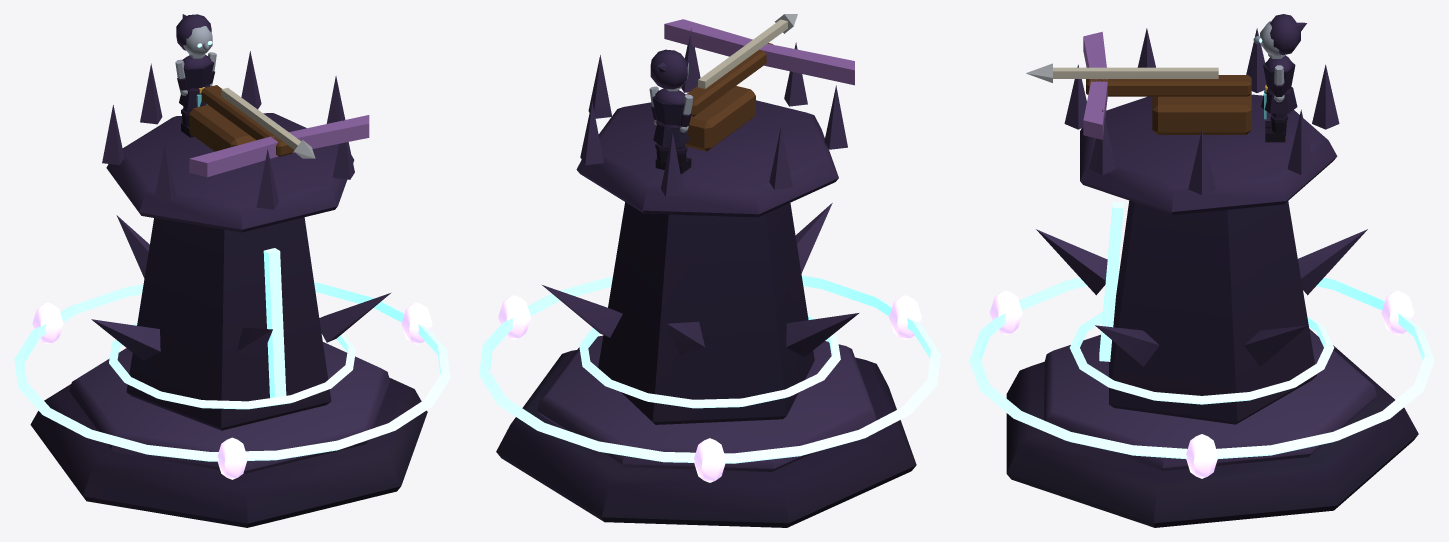
The model's file is ombres_6.glb.
3 views of the same model, side by side, from view 1: azimuth 30°, elevation 25°; view 2: azimuth 150°, elevation 25°; view 3: azimuth 270°, elevation 25° (orthographic). The views are drawn at different scales.
Parts seen in each view (by area): view 1: ombres_6_peint, Tourelle_peint, Rune, ombres_6_lueur, AnneauFlottant_lueur, Buste_peint, Crane_peint; view 2: ombres_6_peint, Tourelle_peint, Rune, ombres_6_lueur, AnneauFlottant_lueur, Buste_peint, Crane_peint; view 3: ombres_6_peint, Tourelle_peint, Rune, ombres_6_lueur, AnneauFlottant_lueur, Crane_peint, Buste_peint, JambeD_peint.
Boxes of the visible parts, x1,y1,x2,y2 form: ombres_6_peint: [30, 51, 427, 527]; Tourelle_peint: [189, 85, 369, 177]; Rune: [14, 282, 450, 461]; ombres_6_lueur: [109, 248, 355, 409]; AnneauFlottant_lueur: [32, 302, 432, 479]; Buste_peint: [179, 55, 213, 109]; Crane_peint: [176, 14, 212, 55]; ombres_6_peint: [496, 28, 916, 527]; Tourelle_peint: [664, 14, 854, 151]; Rune: [479, 275, 940, 463]; ombres_6_lueur: [579, 316, 840, 408]; AnneauFlottant_lueur: [498, 295, 921, 482]; Buste_peint: [652, 88, 689, 146]; Crane_peint: [650, 49, 688, 89]; ombres_6_peint: [1006, 28, 1418, 527]; Tourelle_peint: [1026, 31, 1251, 139]; Rune: [969, 269, 1434, 458]; ombres_6_lueur: [1069, 201, 1334, 404]; AnneauFlottant_lueur: [989, 290, 1414, 478]; Crane_peint: [1253, 14, 1306, 56]; Buste_peint: [1261, 55, 1297, 119]; JambeD_peint: [1265, 101, 1287, 142].
Bounding box in the file's own units: 0.858 × 0.8502 × 0.844.
